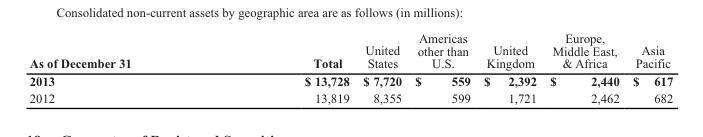table: (28, 28, 672, 105)
table column: (28, 28, 217, 105), (217, 28, 355, 105), (542, 28, 625, 105), (407, 28, 476, 105), (476, 28, 542, 105), (355, 28, 407, 105), (625, 28, 672, 105)
table column header: (28, 28, 672, 71)
table row: (28, 28, 672, 71), (28, 71, 672, 88), (28, 88, 672, 105)
